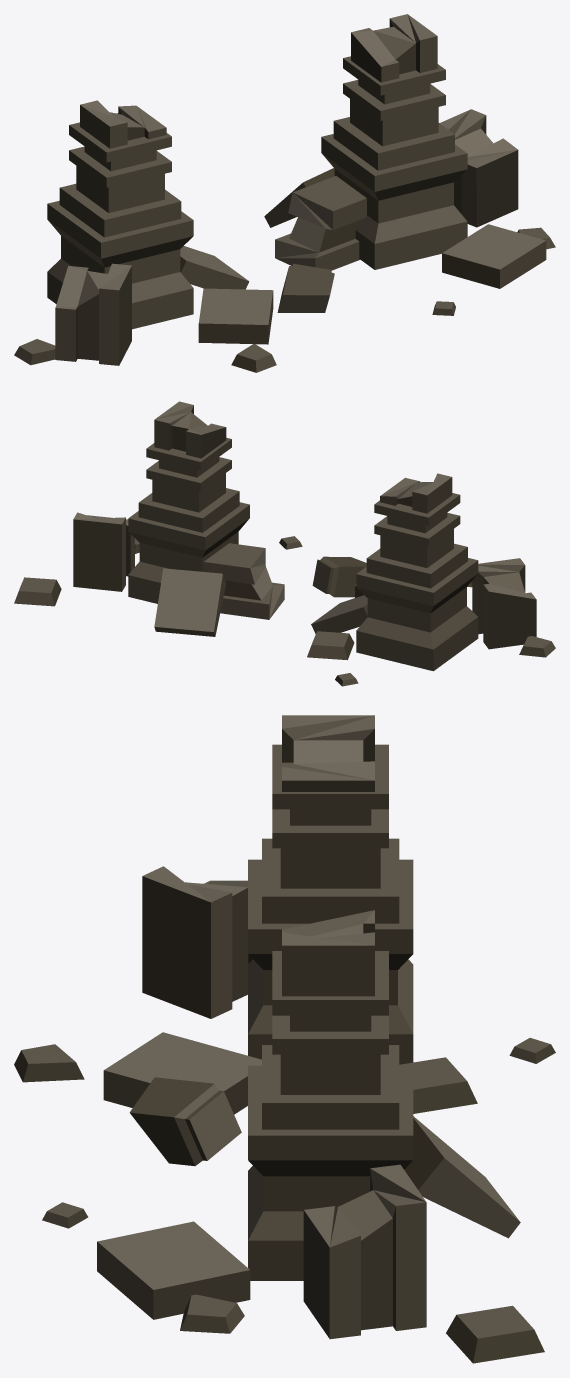
File: SD_Env_Undead_Pillar_Broken_01.fbx
The picture shows the model from 3 angles, top to bottom: view 1: azimuth 30°, elevation 25°; view 2: azimuth 150°, elevation 25°; view 3: azimuth 270°, elevation 25°; orthographic projection. The views are drawn at different scales.
Visible parts, largest first — view 1: SD_Env_Undead_Pillar_Broken_01; view 2: SD_Env_Undead_Pillar_Broken_01; view 3: SD_Env_Undead_Pillar_Broken_01.
Boxes of the visible parts, x1,y1,x2,y2 form: SD_Env_Undead_Pillar_Broken_01: (14,14,555,372); SD_Env_Undead_Pillar_Broken_01: (14,401,555,686); SD_Env_Undead_Pillar_Broken_01: (14,715,555,1363).
Size of the model in its own units: 10.23 by 3.74 by 5.55.
